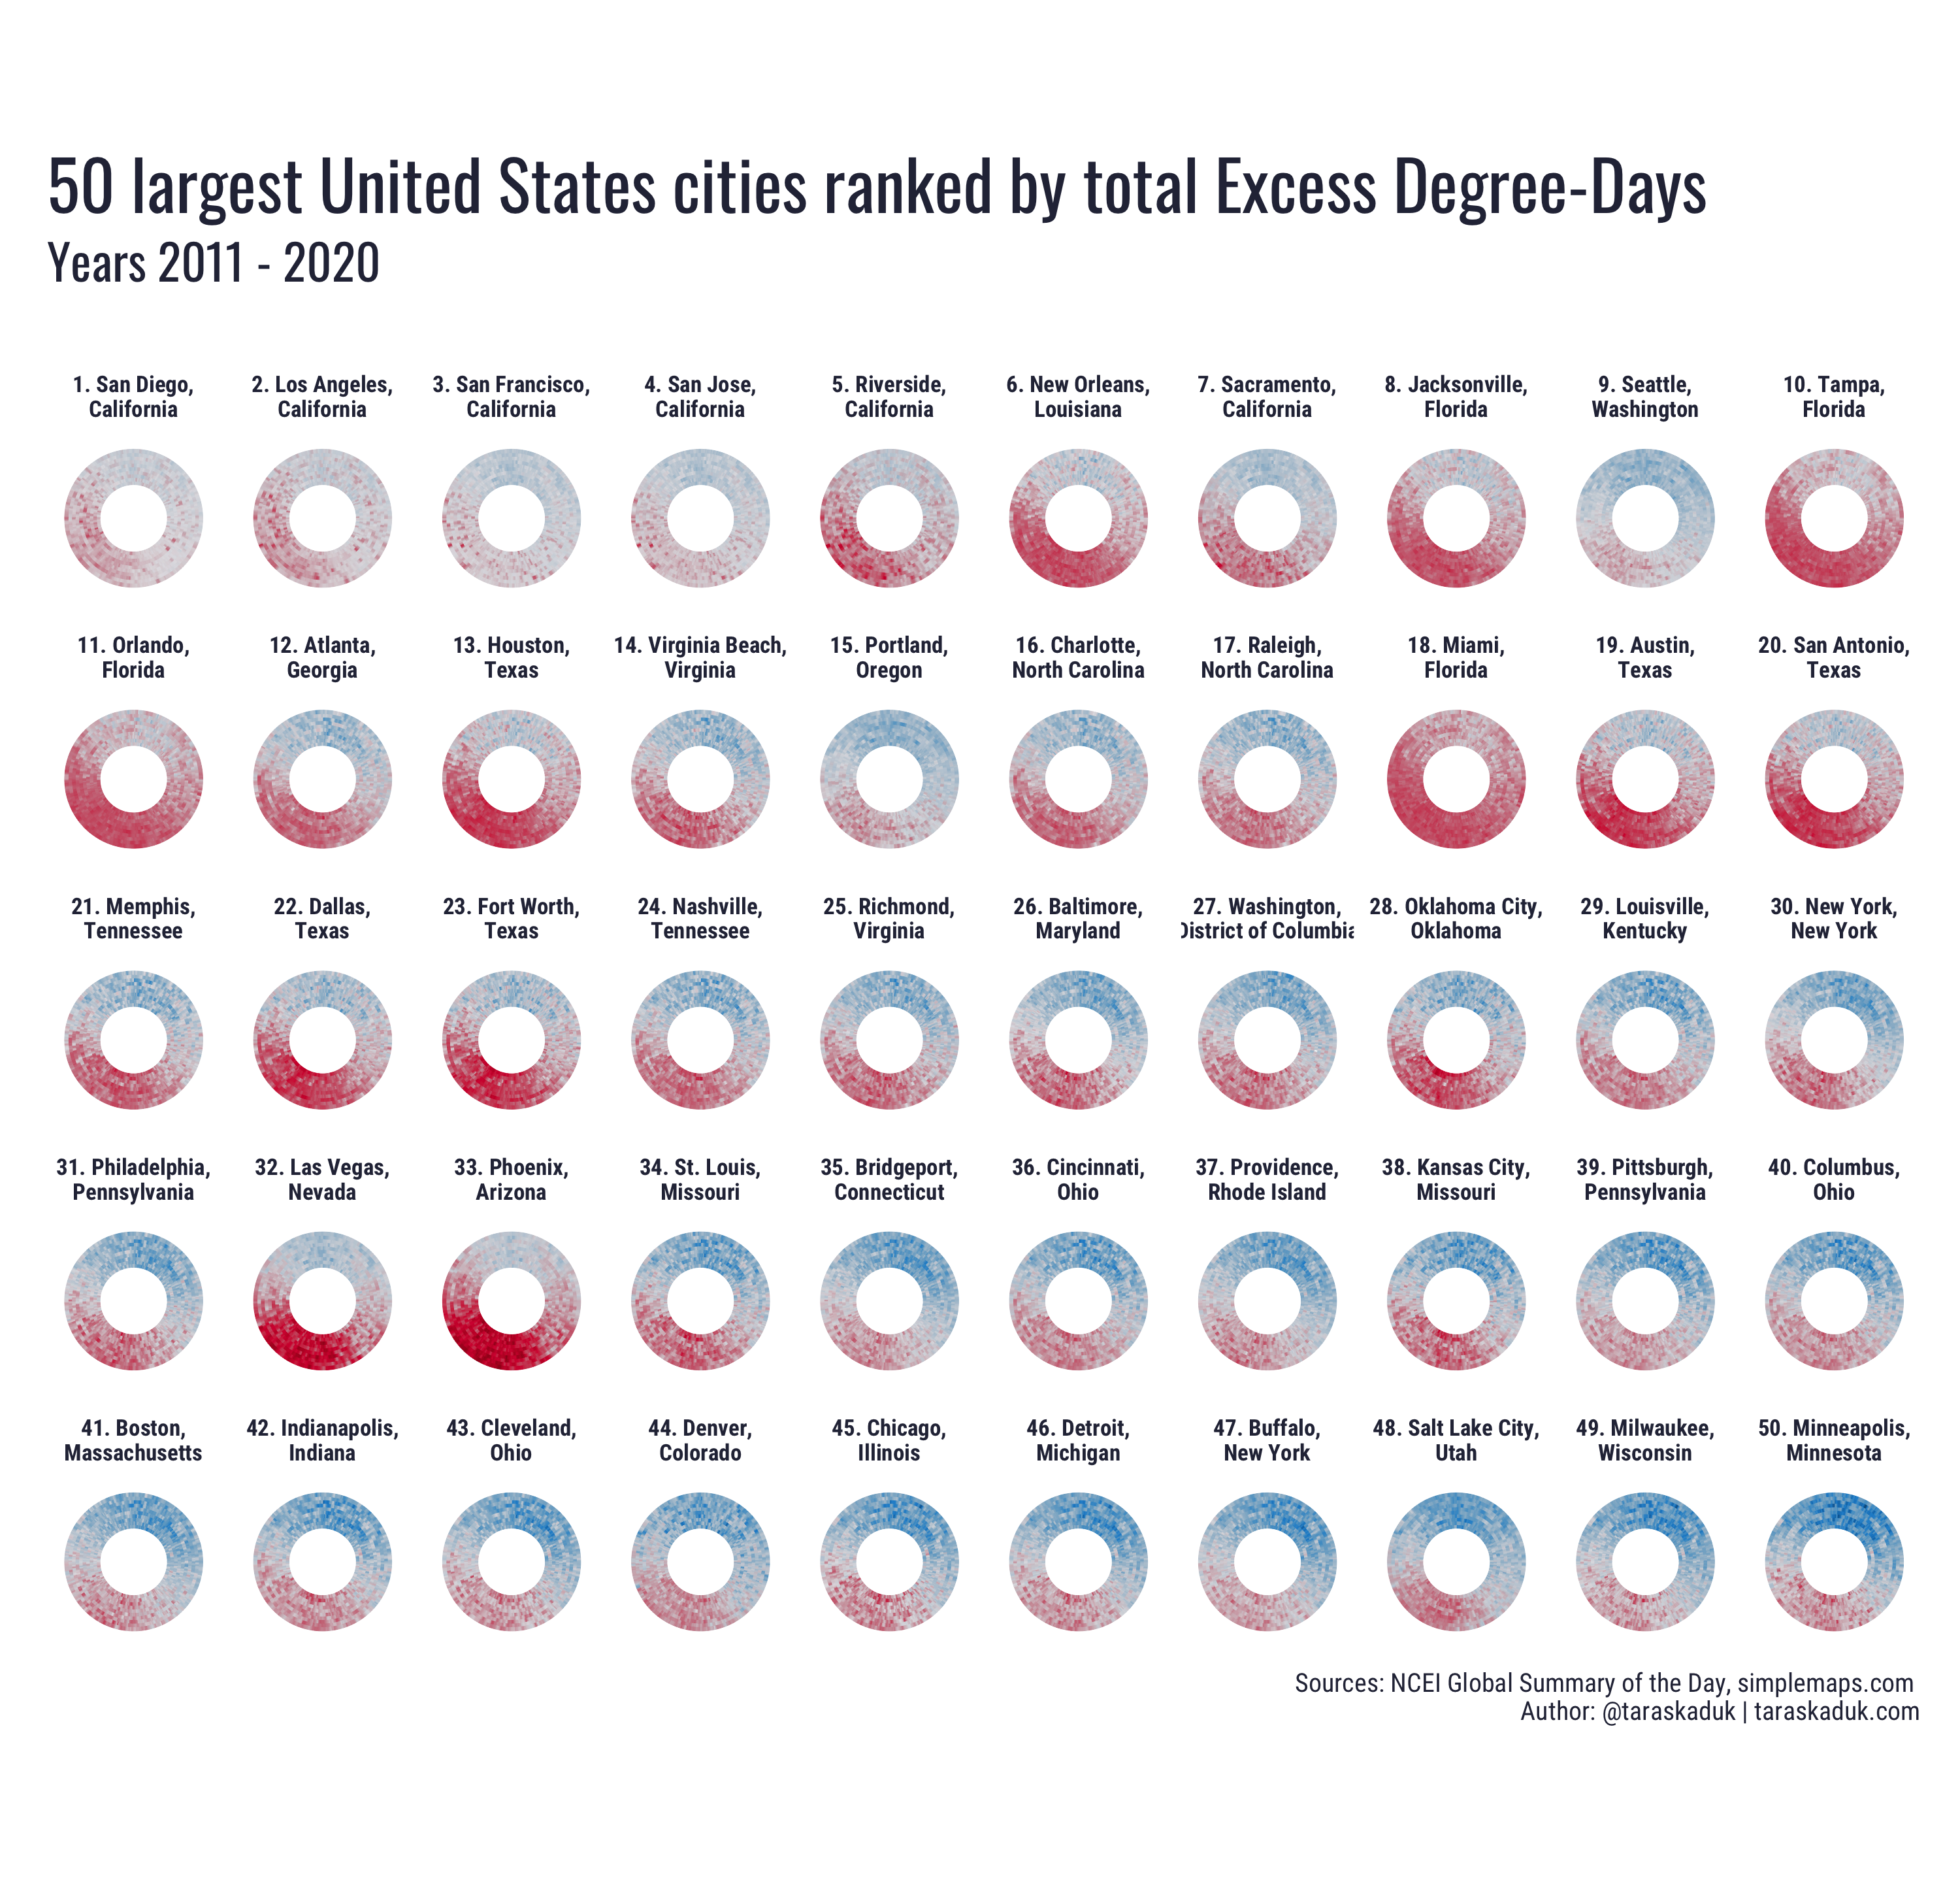

What the dashboard file says about the page in this screenshot:
{"tool":"tableau","page":{"name":"Radial Stack Bar Charts","canvas":[900,800],"ordinal":0},"visuals":[{"type":"worksheet","title":"radial stacked bar","mark":"Polygon","box":[0,0,796,800]},{"type":"legend","title":"radial stacked bar","param":"[federated.0d4brrl0id6ggj1ffol9q0xiccq4].[none:Calculation_4518799278402621453:n","box":[796,0,104,90]},{"type":"parameter","param":"[Parameters].[Parameter 4]","box":[796,90,104,52]},{"type":"parameter","param":"[Parameters].[Parameter 1]","box":[796,142,104,52]},{"type":"parameter","param":"[Parameters].[Parameter 2]","box":[796,194,104,52]},{"type":"parameter","param":"[Parameters].[Parameter 3]","box":[796,246,104,52]},{"type":"worksheet","title":"social","mark":"Shape","cols":["Platform"],"box":[840,770,60,30]}]}

Visuals, with their boxes on the page's 900x800 design canvas (x1, y1, x2, y2). These are canvas units, not pixel positions in the 1960x1882 screenshot, which may show the page scaled, cropped or inside an application window:
"radial stacked bar" worksheet (Polygon marks): region(0, 0, 796, 800)
"radial stacked bar" legend: region(796, 0, 900, 90)
parameter: region(796, 90, 900, 142)
parameter: region(796, 142, 900, 194)
parameter: region(796, 194, 900, 246)
parameter: region(796, 246, 900, 298)
"social" worksheet (Shape marks): region(840, 770, 900, 800)
